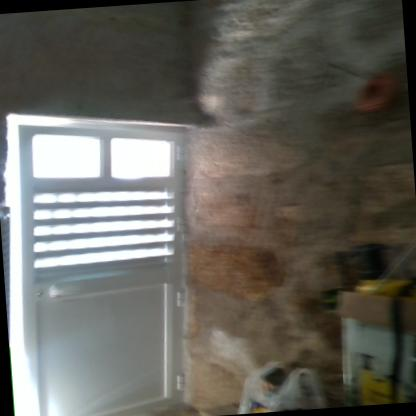closed: (1, 100, 200, 415)
